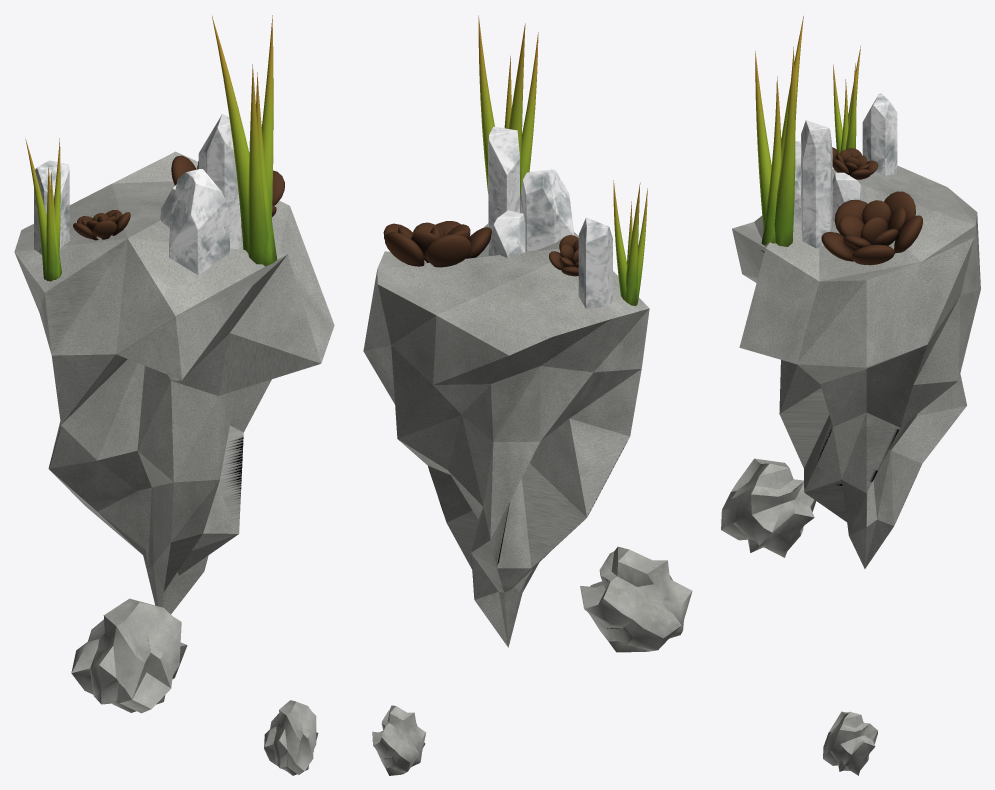
File: Ile 3.fbx
3 renders of one model, left to right at view 1: azimuth 30°, elevation 25°; view 2: azimuth 150°, elevation 25°; view 3: azimuth 270°, elevation 25°, orthographic. The views are drawn at different scales.
Parts seen in each view (by area): view 1: Roche, Crystal_1, Herbe_1, PlanteBulbe_1; view 2: Roche, Crystal_1, Herbe_1, PlanteBulbe_1; view 3: Roche, Crystal_1, Herbe_1, PlanteBulbe_1.
Part boxes in pixels (<box>): Roche: <box>14,151,334,775</box>; Crystal_1: <box>34,114,241,275</box>; Herbe_1: <box>25,15,278,281</box>; PlanteBulbe_1: <box>73,155,284,240</box>; Roche: <box>363,223,692,775</box>; Crystal_1: <box>488,126,612,308</box>; Herbe_1: <box>478,15,647,305</box>; PlanteBulbe_1: <box>383,221,578,276</box>; Roche: <box>721,165,980,775</box>; Crystal_1: <box>793,93,897,248</box>; Herbe_1: <box>755,16,860,252</box>; PlanteBulbe_1: <box>821,147,922,265</box>.
Bounding box in the file's own units: 75.52 × 203 × 66.95.
6 materials, 6 textured.
